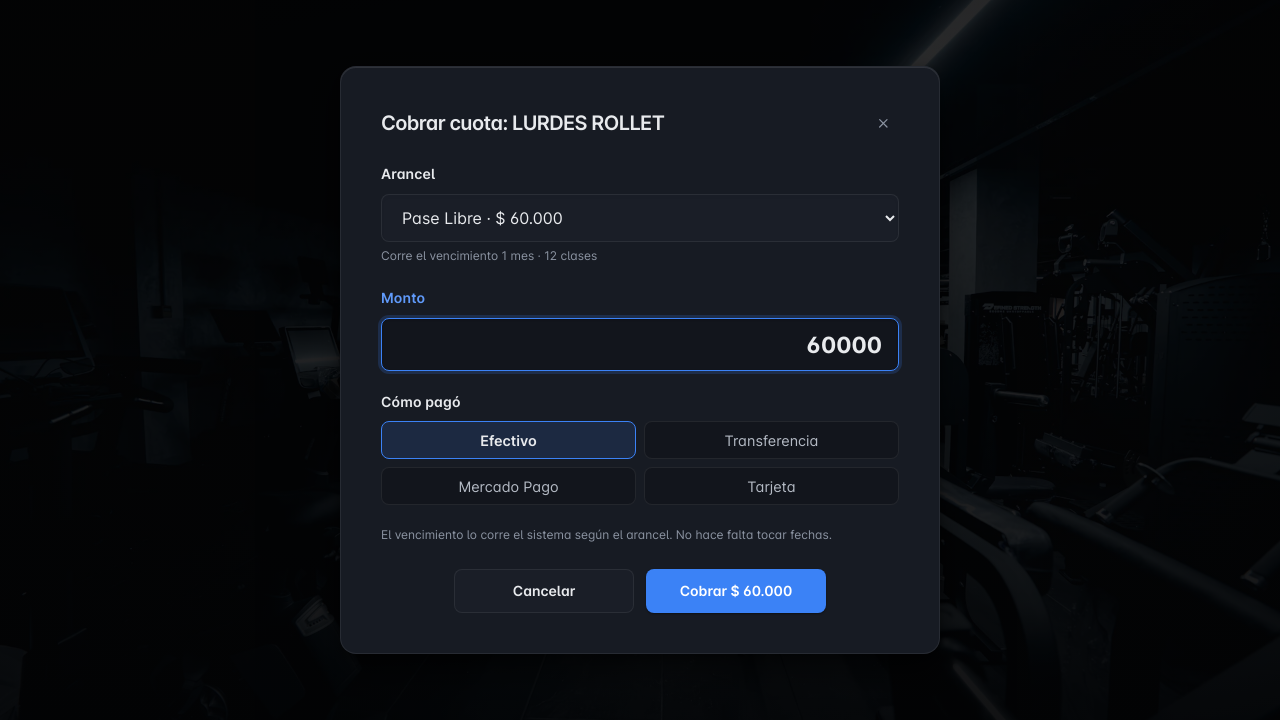
Test: ⚠️ sin conexión no se promete un vencimiento nuevo › con conexión sigue diciendo el vencimiento real
Click the button "Cobrar $ 60.000" at [736, 591], box [646, 569, 826, 613]
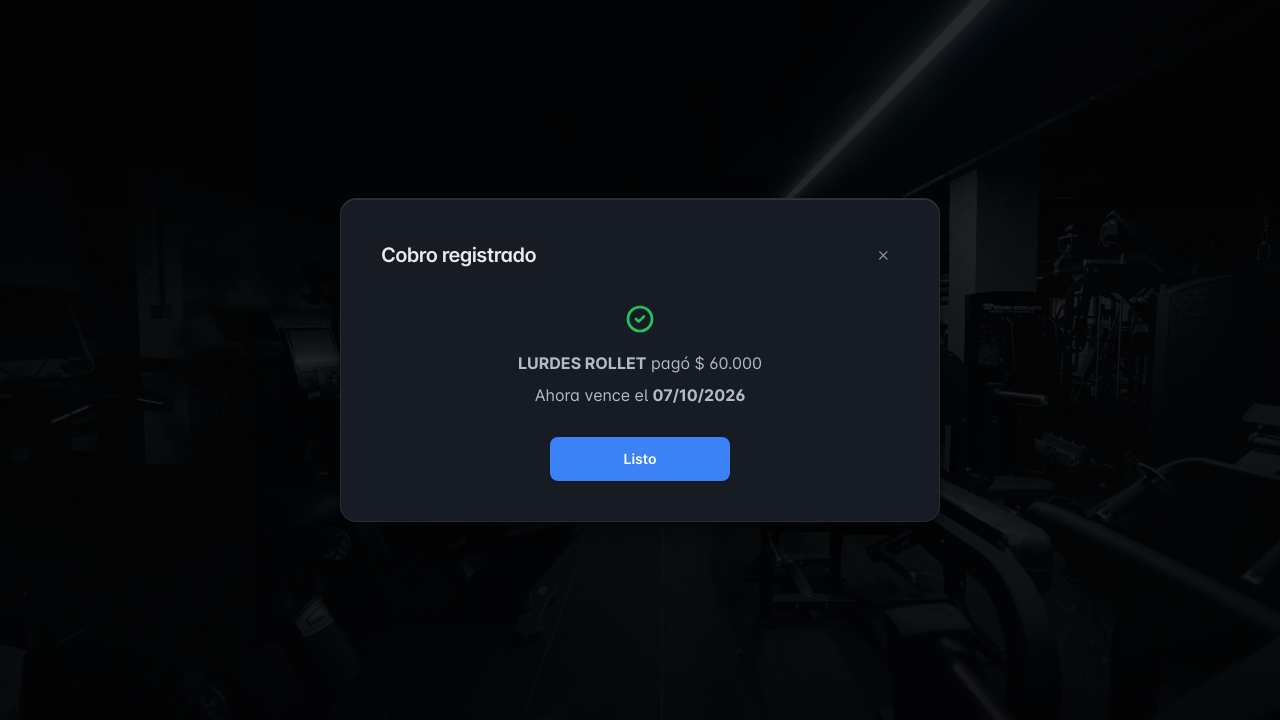
Result: the text "Ahora vence el" is shown at [535, 385, 652, 405]
